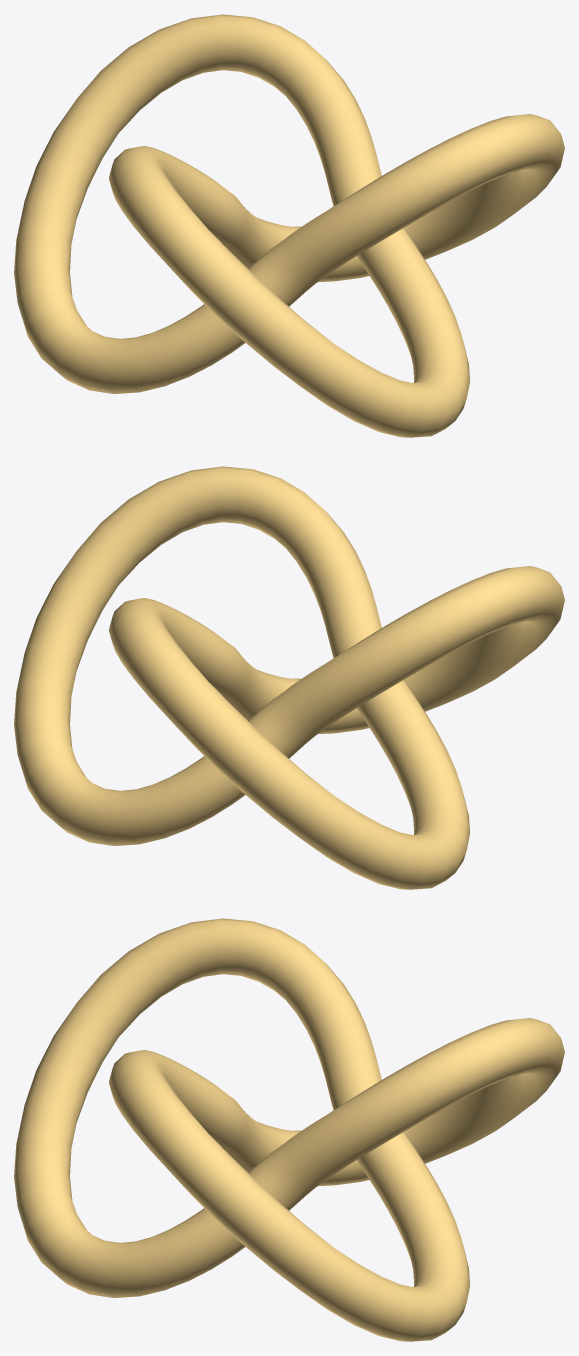
File: knot.glb
3 views of the same model, one above another, from view 1: azimuth 30°, elevation 25°; view 2: azimuth 150°, elevation 25°; view 3: azimuth 270°, elevation 25° (orthographic).
Bounding box in the file's own units: 3 × 1.64 × 3.15.
